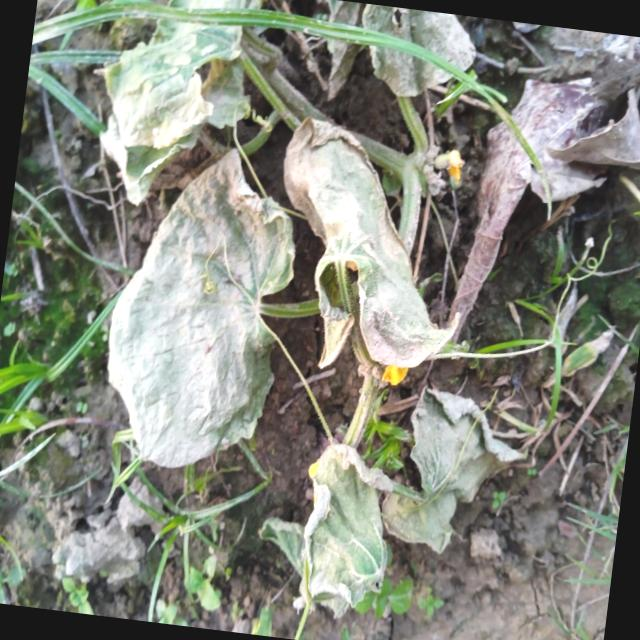cucumber_bacterial: (91, 168, 282, 458), (270, 134, 464, 369), (280, 441, 406, 624), (485, 64, 640, 190), (406, 381, 523, 539), (90, 0, 216, 144)
